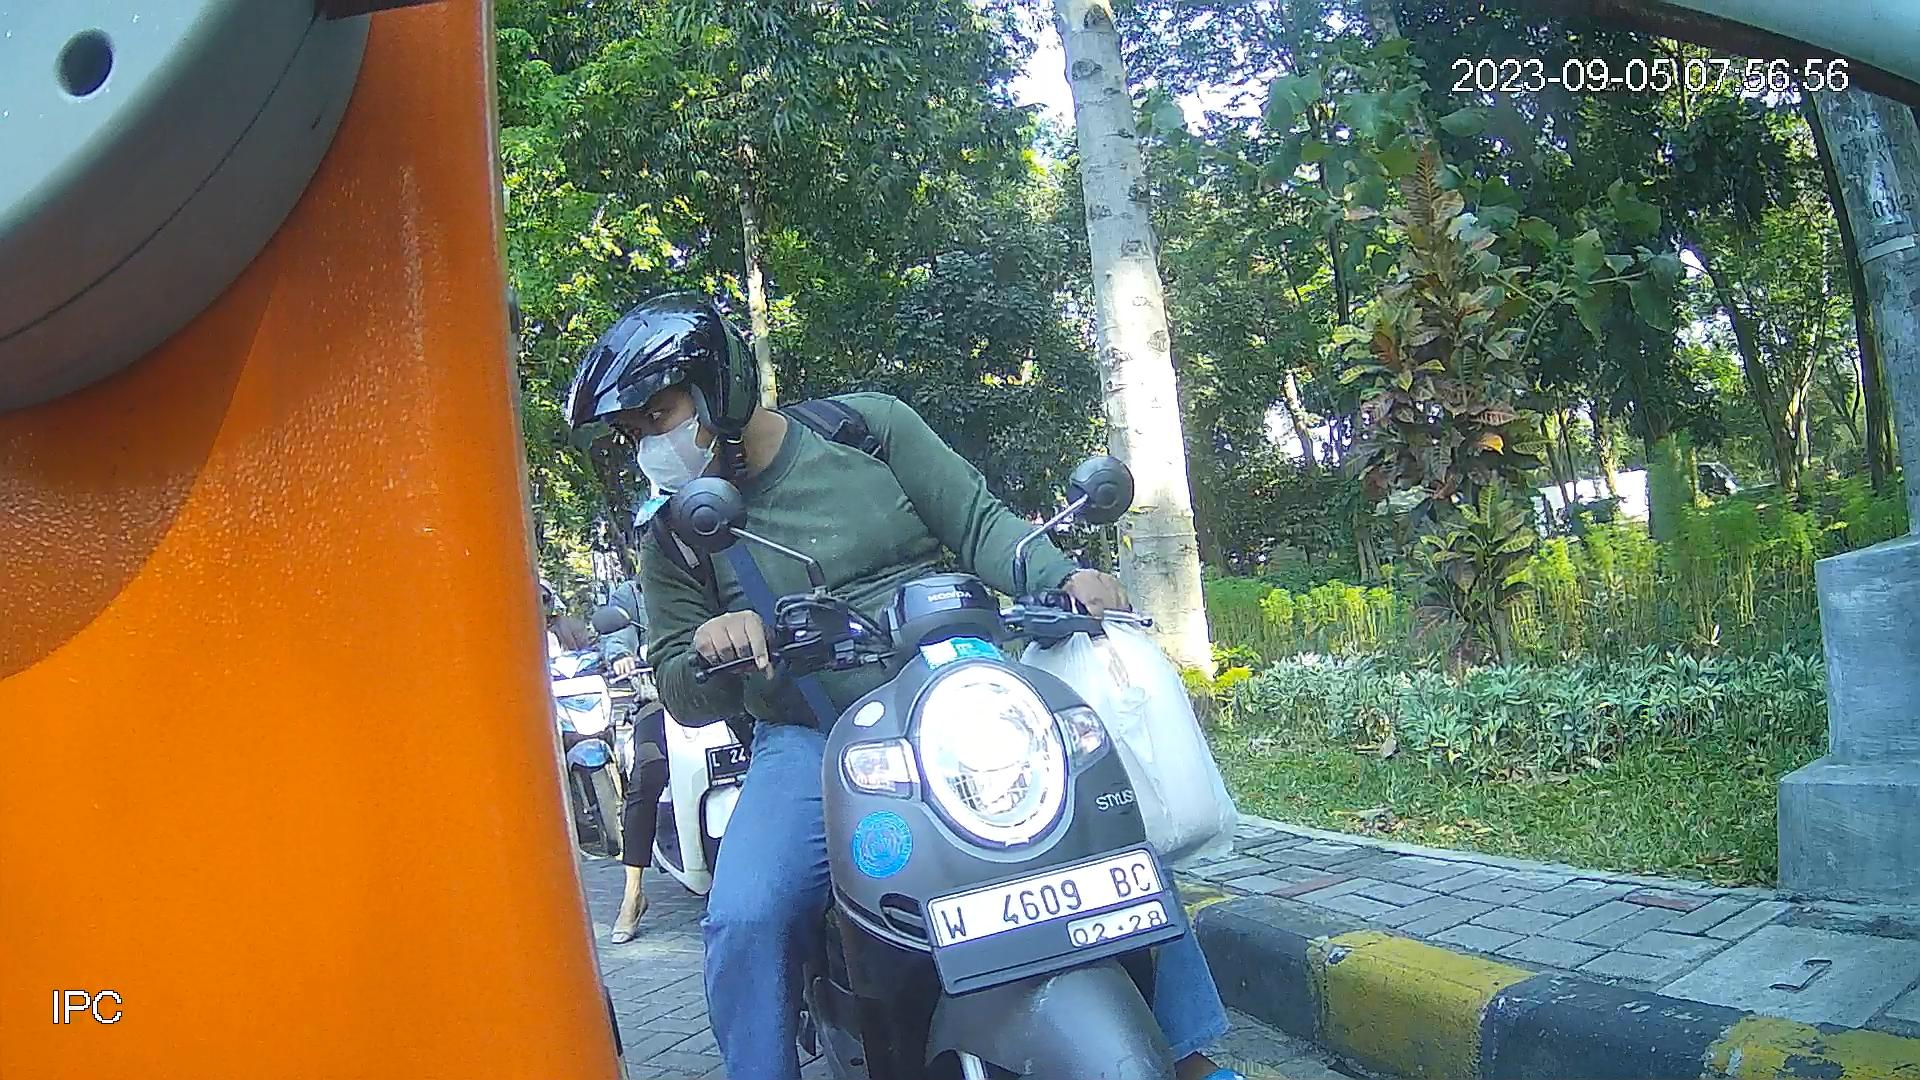plat: (916, 841, 1188, 996)
